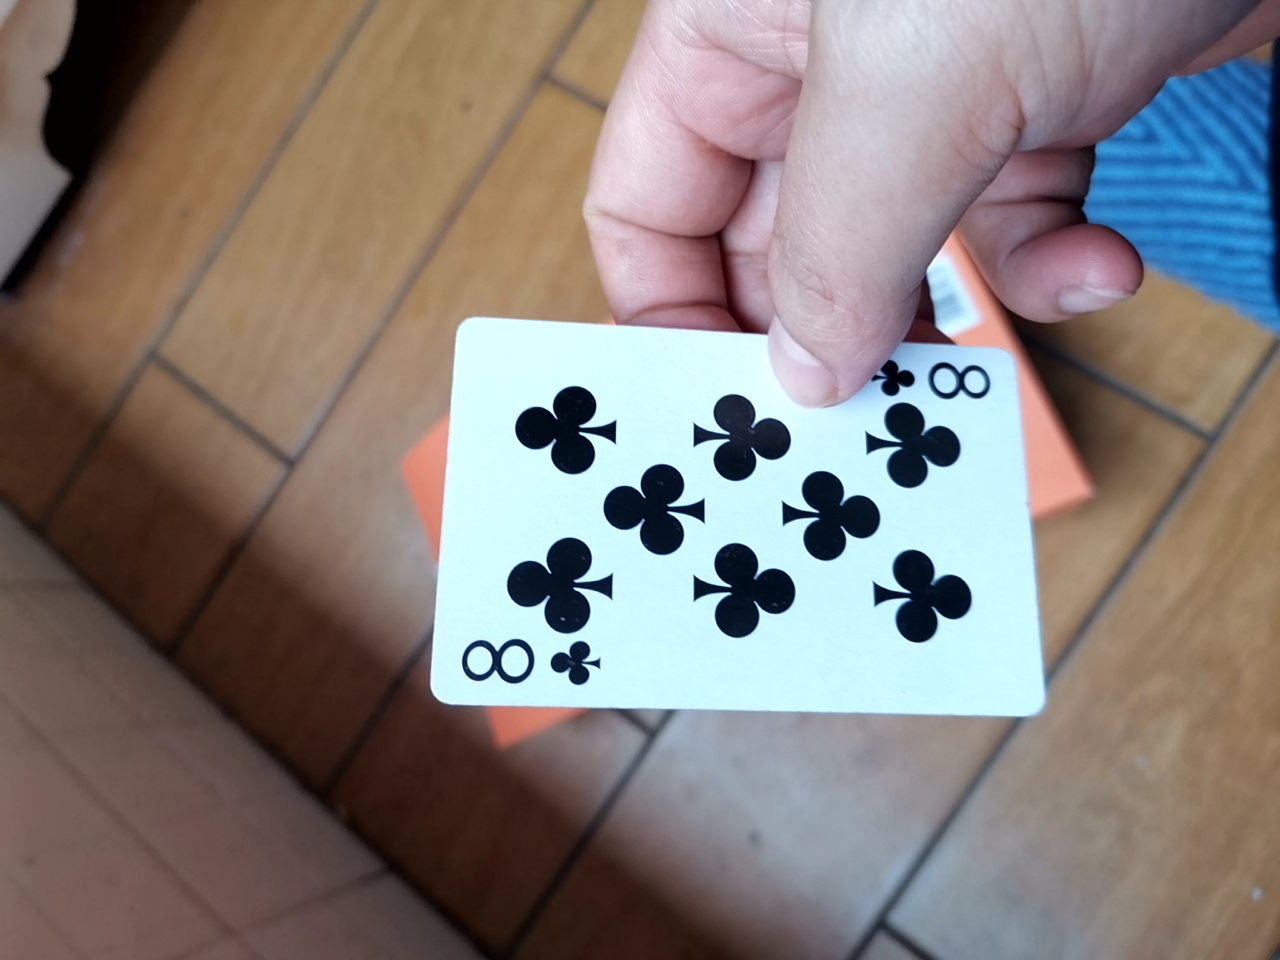mh 8: (424, 304, 1049, 720)
